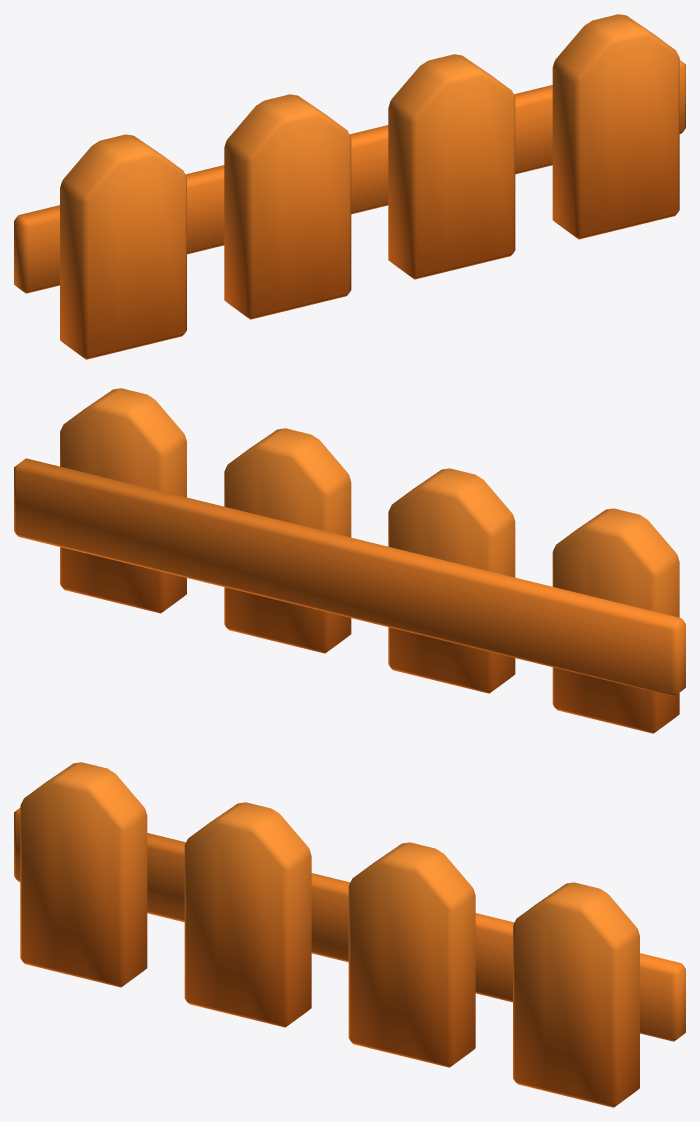
The model's file is Prop_Fence_A_01.fbx.
3 renders of one model, top to bottom at view 1: azimuth 30°, elevation 25°; view 2: azimuth 150°, elevation 25°; view 3: azimuth 330°, elevation 25°, orthographic.
Parts seen in each view (by area): view 1: Prop_Fence_A_01; view 2: Prop_Fence_A_01; view 3: Prop_Fence_A_01.
Part boxes in pixels (bbox=[...]): Prop_Fence_A_01: bbox=[14, 14, 685, 359]; Prop_Fence_A_01: bbox=[14, 388, 685, 733]; Prop_Fence_A_01: bbox=[14, 762, 685, 1107].
Bounding box in the file's own units: 200 × 56.02 × 20.67.
